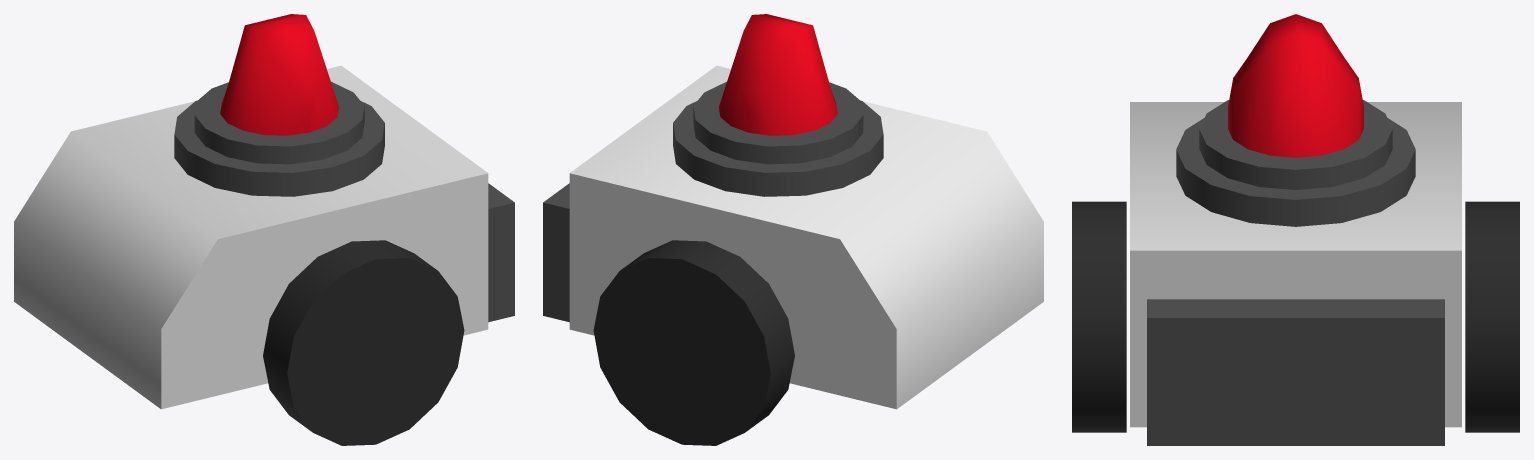
Rendered from default_robot_1.fbx.
3 views of the same model, side by side, from view 1: azimuth 30°, elevation 25°; view 2: azimuth 150°, elevation 25°; view 3: azimuth 270°, elevation 25° (orthographic). The views are drawn at different scales.
Parts seen in each view (by area): view 1: DefaultRobot; view 2: DefaultRobot; view 3: DefaultRobot.
Part boxes in pixels (x1,y1,x2,y2): DefaultRobot: (14, 14, 514, 445); DefaultRobot: (543, 14, 1043, 445); DefaultRobot: (1072, 14, 1519, 445).
Bounding box in the file's own units: 0.772 × 0.7342 × 0.7147.
